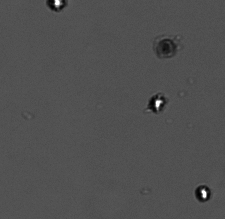Dead Cell: (155, 39, 177, 58)
Living Cell: (148, 95, 167, 113), (194, 184, 212, 202), (45, 1, 67, 11)
